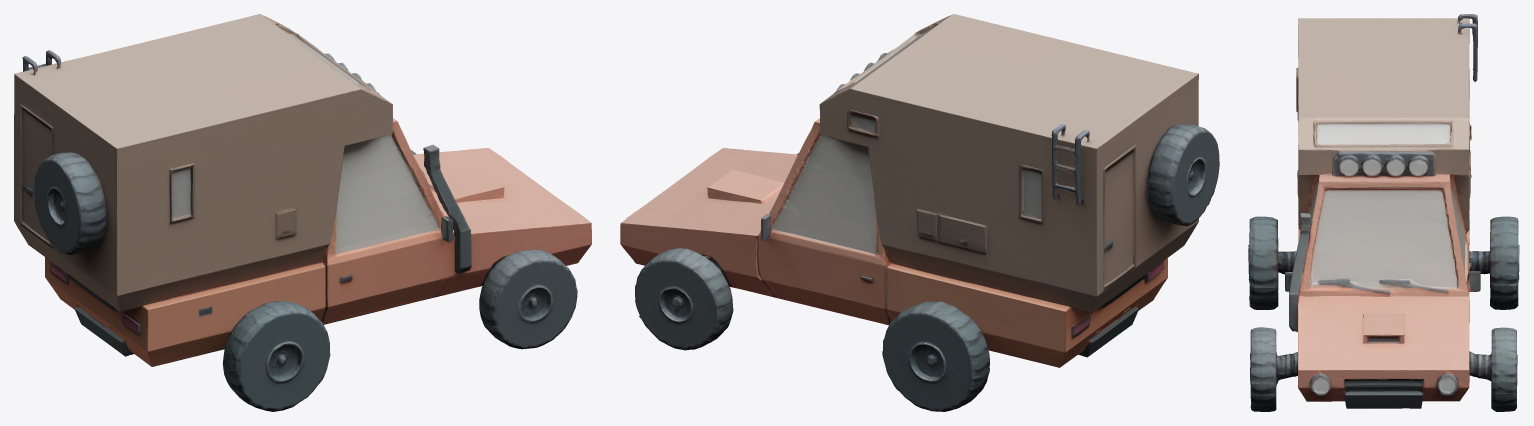
The model's file is PartObjaverseTiny_TwentyFour.glb.
3 renders of one model, left to right at view 1: azimuth 30°, elevation 25°; view 2: azimuth 150°, elevation 25°; view 3: azimuth 270°, elevation 25°, orthographic. The views are drawn at different scales.
Visible parts, largest first — view 1: world; view 2: world; view 3: world.
Boxes of the visible parts, box(x1,y1,x2,y2) form: world: box(14, 14, 591, 411); world: box(620, 14, 1219, 411); world: box(1248, 14, 1519, 411).
Bounding box in the file's own units: 0.9998 × 0.5398 × 0.5527.
1 material, 1 textured.
